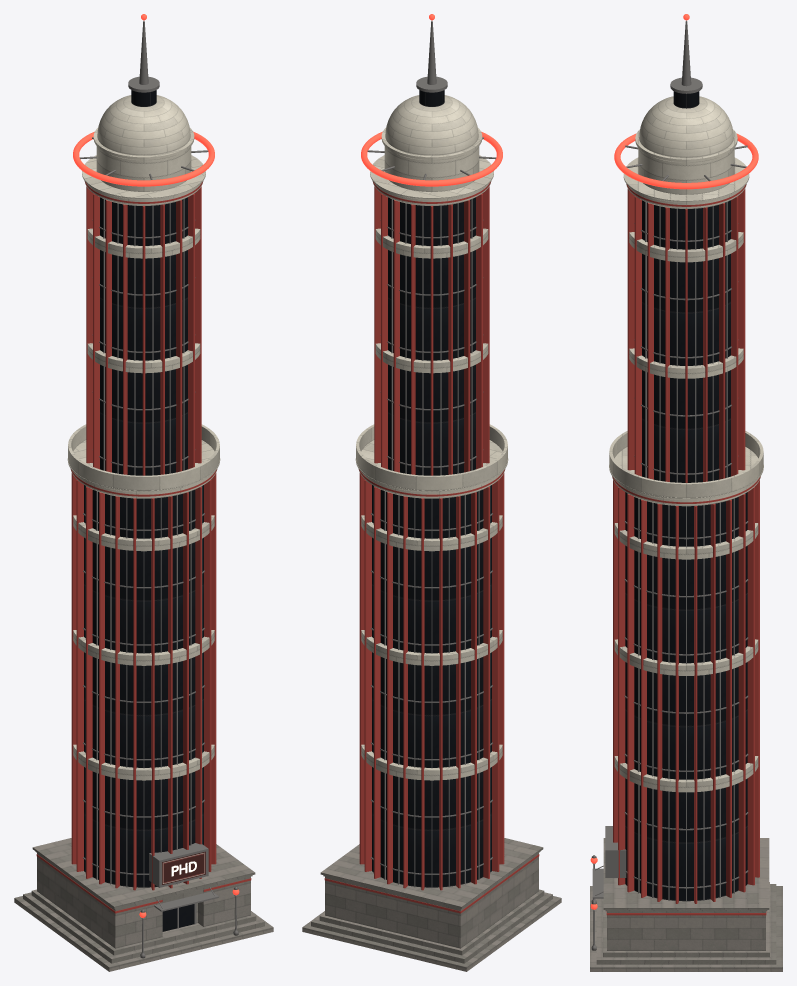
Rendered from public-health-dao.glb.
The picture shows the model from 3 angles, left to right: view 1: azimuth 30°, elevation 25°; view 2: azimuth 150°, elevation 25°; view 3: azimuth 270°, elevation 25°; orthographic projection.
Parts seen in each view (by area): view 1: Landmark · Public Health DAO; view 2: Landmark · Public Health DAO; view 3: Landmark · Public Health DAO.
Boxes of the visible parts, box(x1,y1,x2,y2) form: Landmark · Public Health DAO: box(14, 14, 273, 971); Landmark · Public Health DAO: box(302, 14, 561, 971); Landmark · Public Health DAO: box(590, 14, 782, 971).
Bounding box in the file's own units: 12 × 63 × 12.
Materials: 7 (4 with a texture image).
